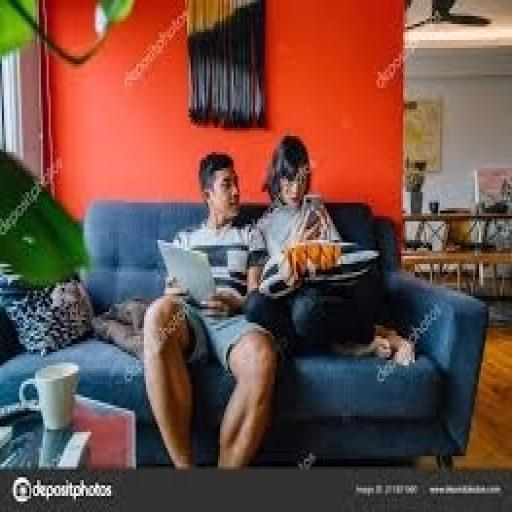sitting: (140, 150, 280, 470)
